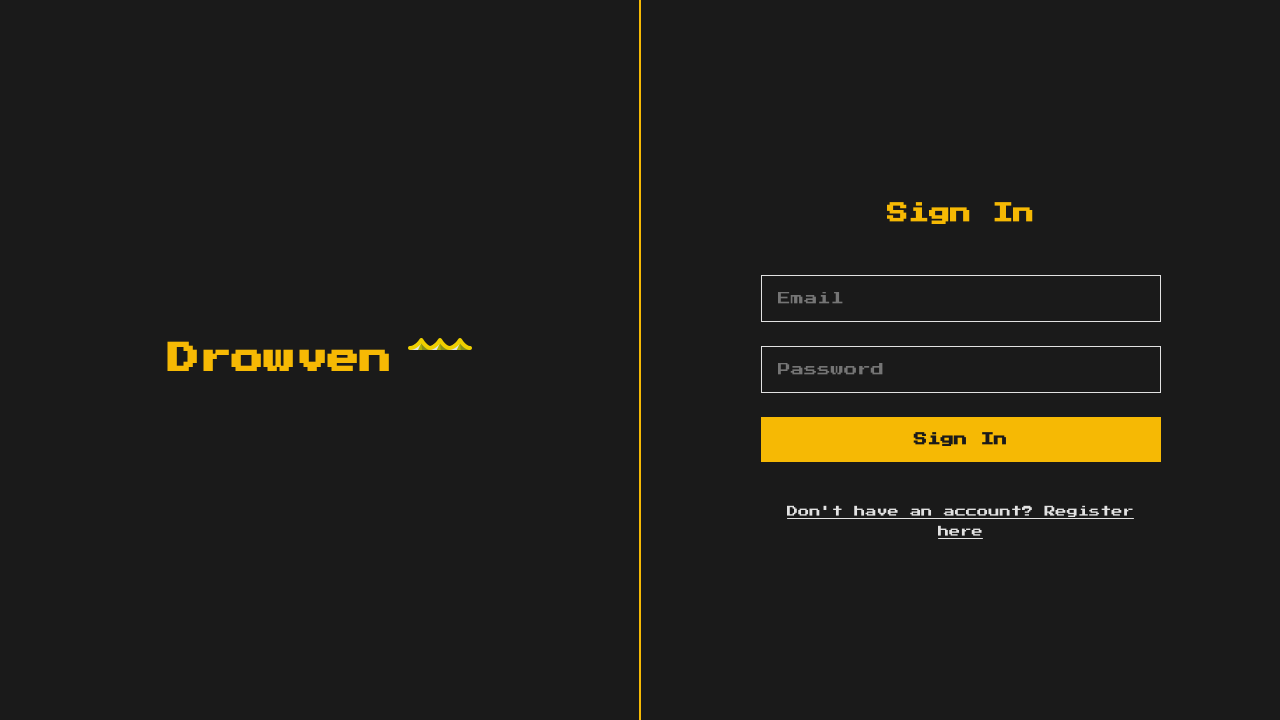
Test: Login Component › displays validation messages on empty submit
Click the button "Sign In": (960, 439) x1=760 y1=417 x2=1160 y2=462
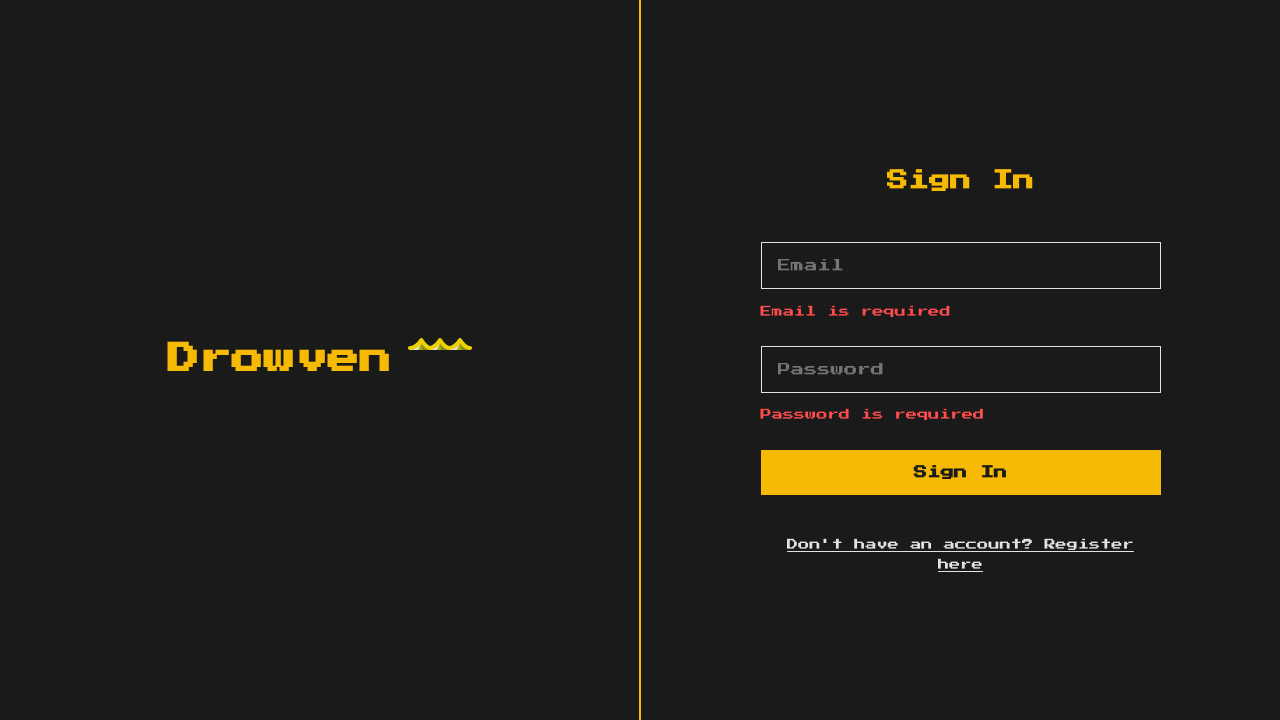
Now the text "Email is required" is shown, box x1=760 y1=306 x2=951 y2=316
Now the text "Password is required" is shown, box x1=760 y1=410 x2=984 y2=420
